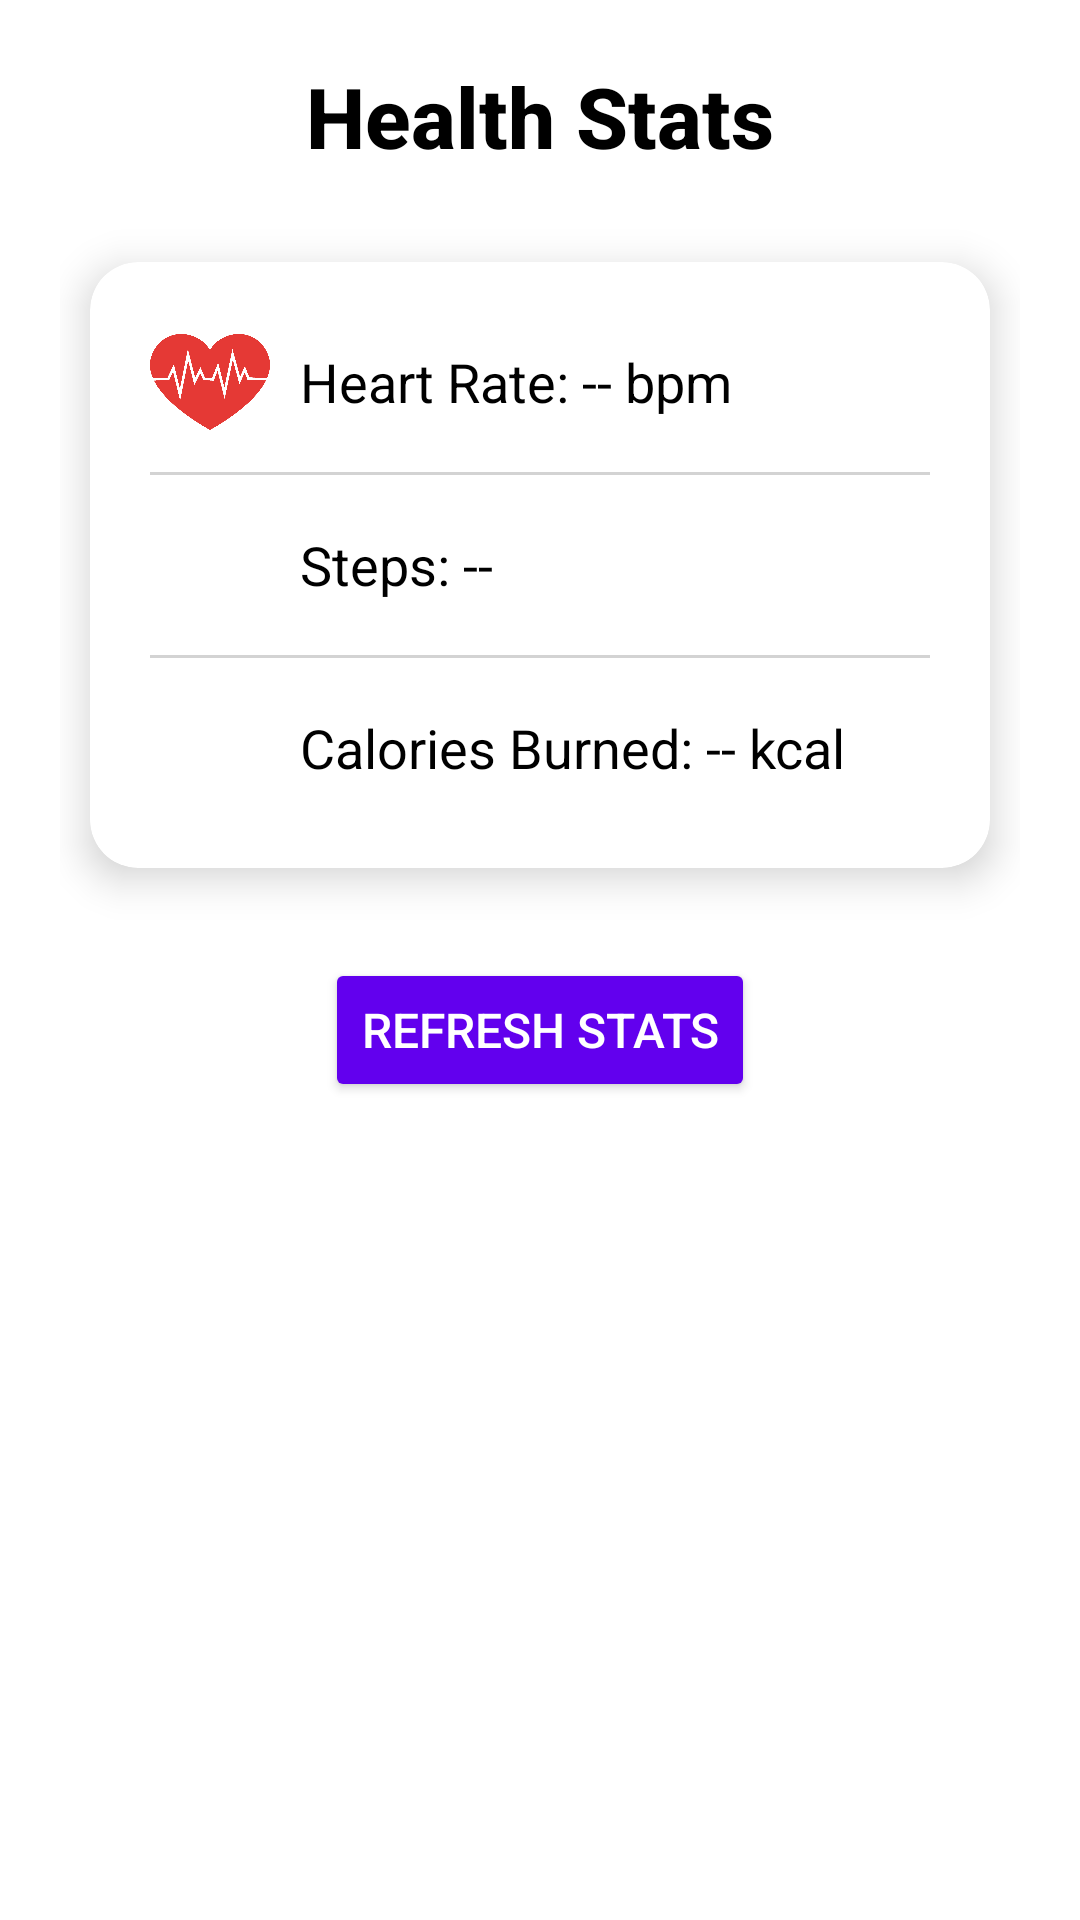

Icon bounding boxes for this 1080 × 1920 phone screenshot, format (x1=x1, y1=y1, x2=x2, y2=y2):
heartbeat: (x1=150, y1=334, x2=270, y2=430)
